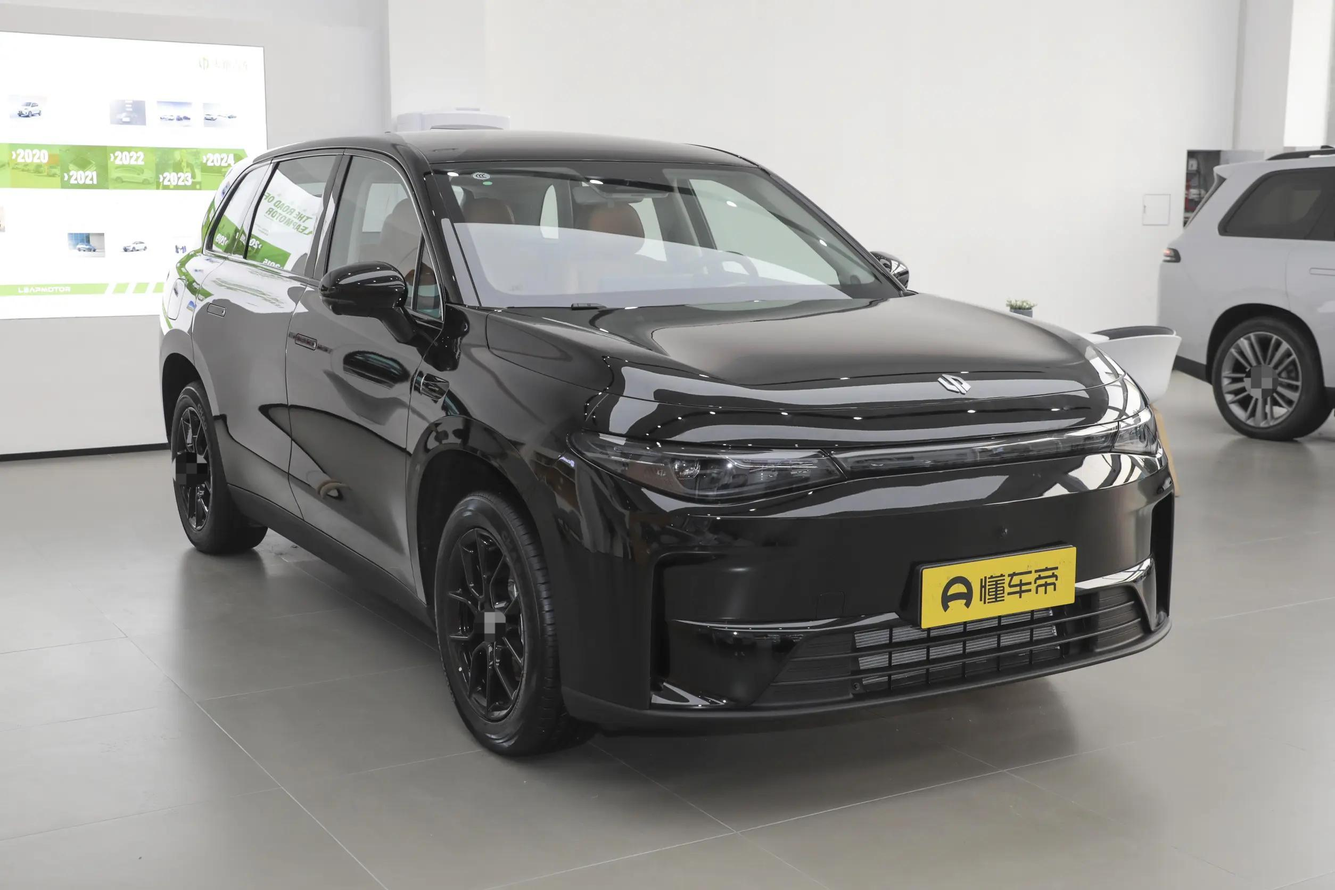LEAPMOTOR: (937, 374, 971, 394)
